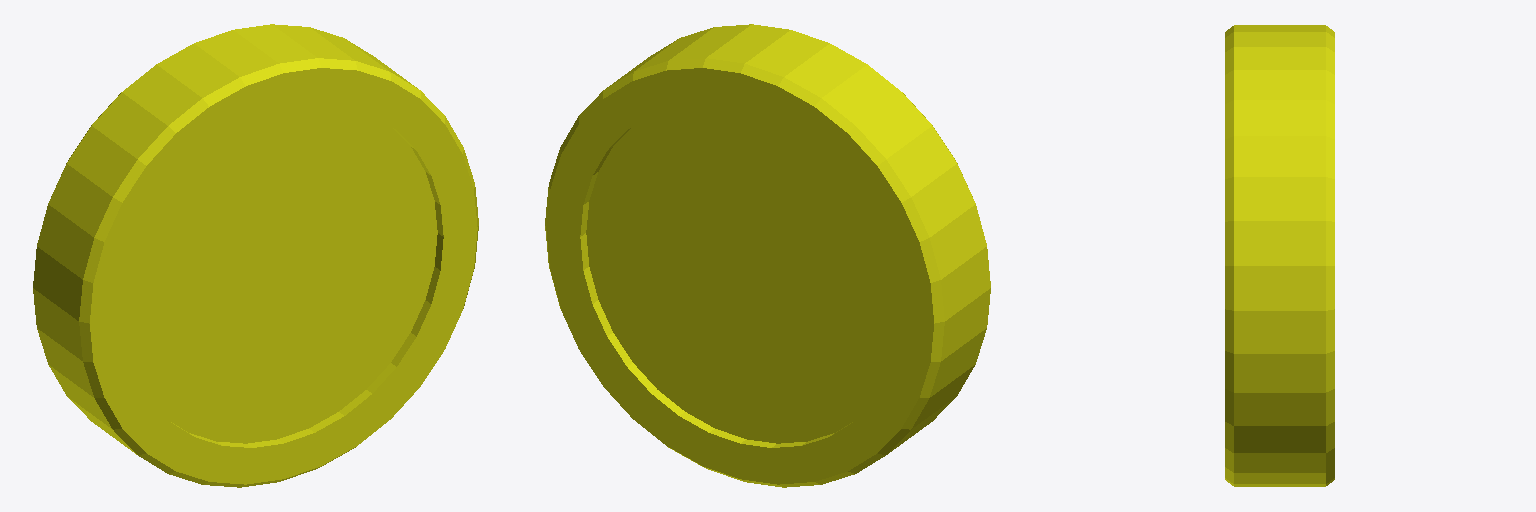
The picture shows the model from 3 angles: view 1: azimuth 30°, elevation 25°; view 2: azimuth 150°, elevation 25°; view 3: azimuth 270°, elevation 25°; orthographic projection.
Parts seen in each view (by area): view 1: Cylinder_Cylinder.001; view 2: Cylinder_Cylinder.001; view 3: Cylinder_Cylinder.001.
Part boxes in pixels (x1,y1,x2,y2): Cylinder_Cylinder.001: (33,24,478,487); Cylinder_Cylinder.001: (545,24,990,487); Cylinder_Cylinder.001: (1225,25,1334,486).
Bounding box in the file's own units: 2 × 2 × 0.4797.
1 materials, 1 textured.